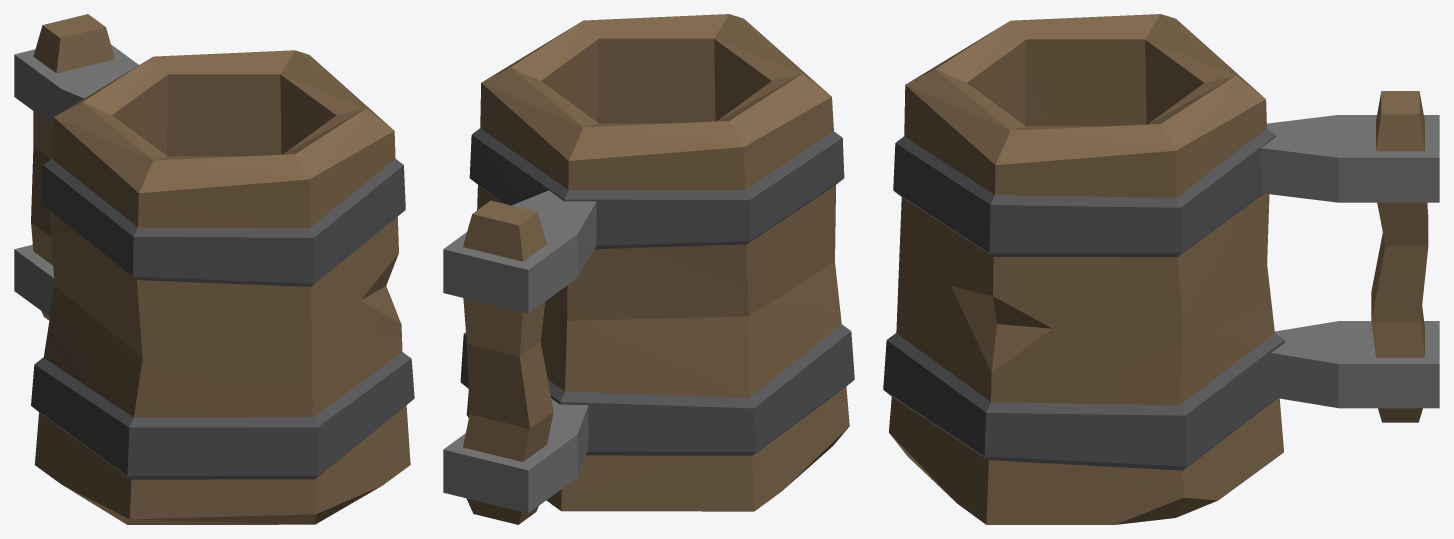
The model's file is Vaso.glb.
3 views of the same model, side by side, from view 1: azimuth 30°, elevation 25°; view 2: azimuth 150°, elevation 25°; view 3: azimuth 270°, elevation 25° (orthographic). The views are drawn at different scales.
Parts seen in each view (by area): view 1: SM_Prop_Beer_Mug_01_1; view 2: SM_Prop_Beer_Mug_01_1; view 3: SM_Prop_Beer_Mug_01_1.
Part boxes in pixels (<box>): SM_Prop_Beer_Mug_01_1: <box>14,14,414,524</box>; SM_Prop_Beer_Mug_01_1: <box>443,14,854,524</box>; SM_Prop_Beer_Mug_01_1: <box>883,14,1439,524</box>.
Bounding box in the file's own units: 0.2754 × 0.3315 × 0.4355.
Materials: 1 (1 with a texture image).
